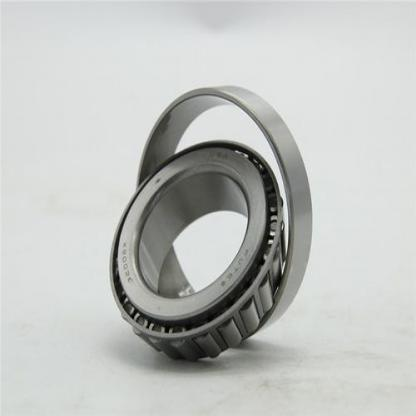FOD: (109, 78, 315, 357)
